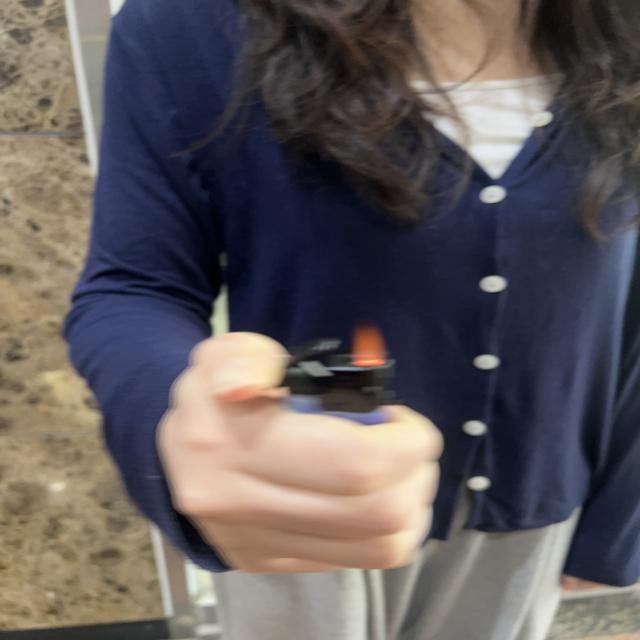fire: (351, 326, 392, 363)
